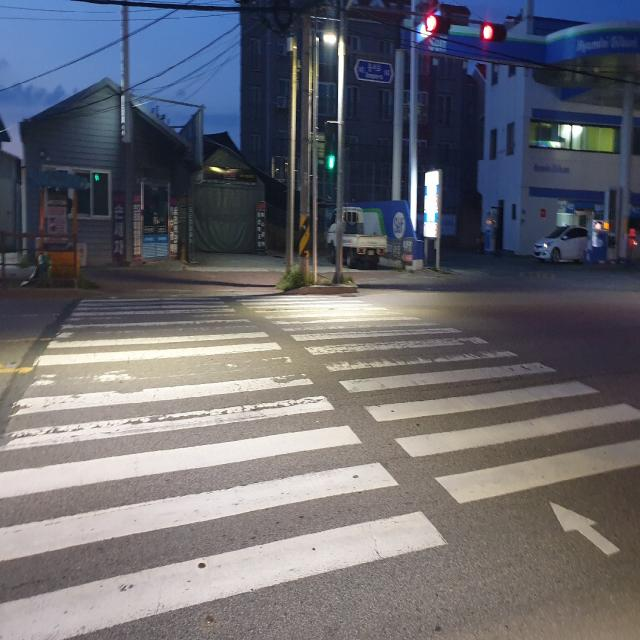초록불: (322, 118, 340, 183)
횡단보도: (1, 286, 638, 635)
